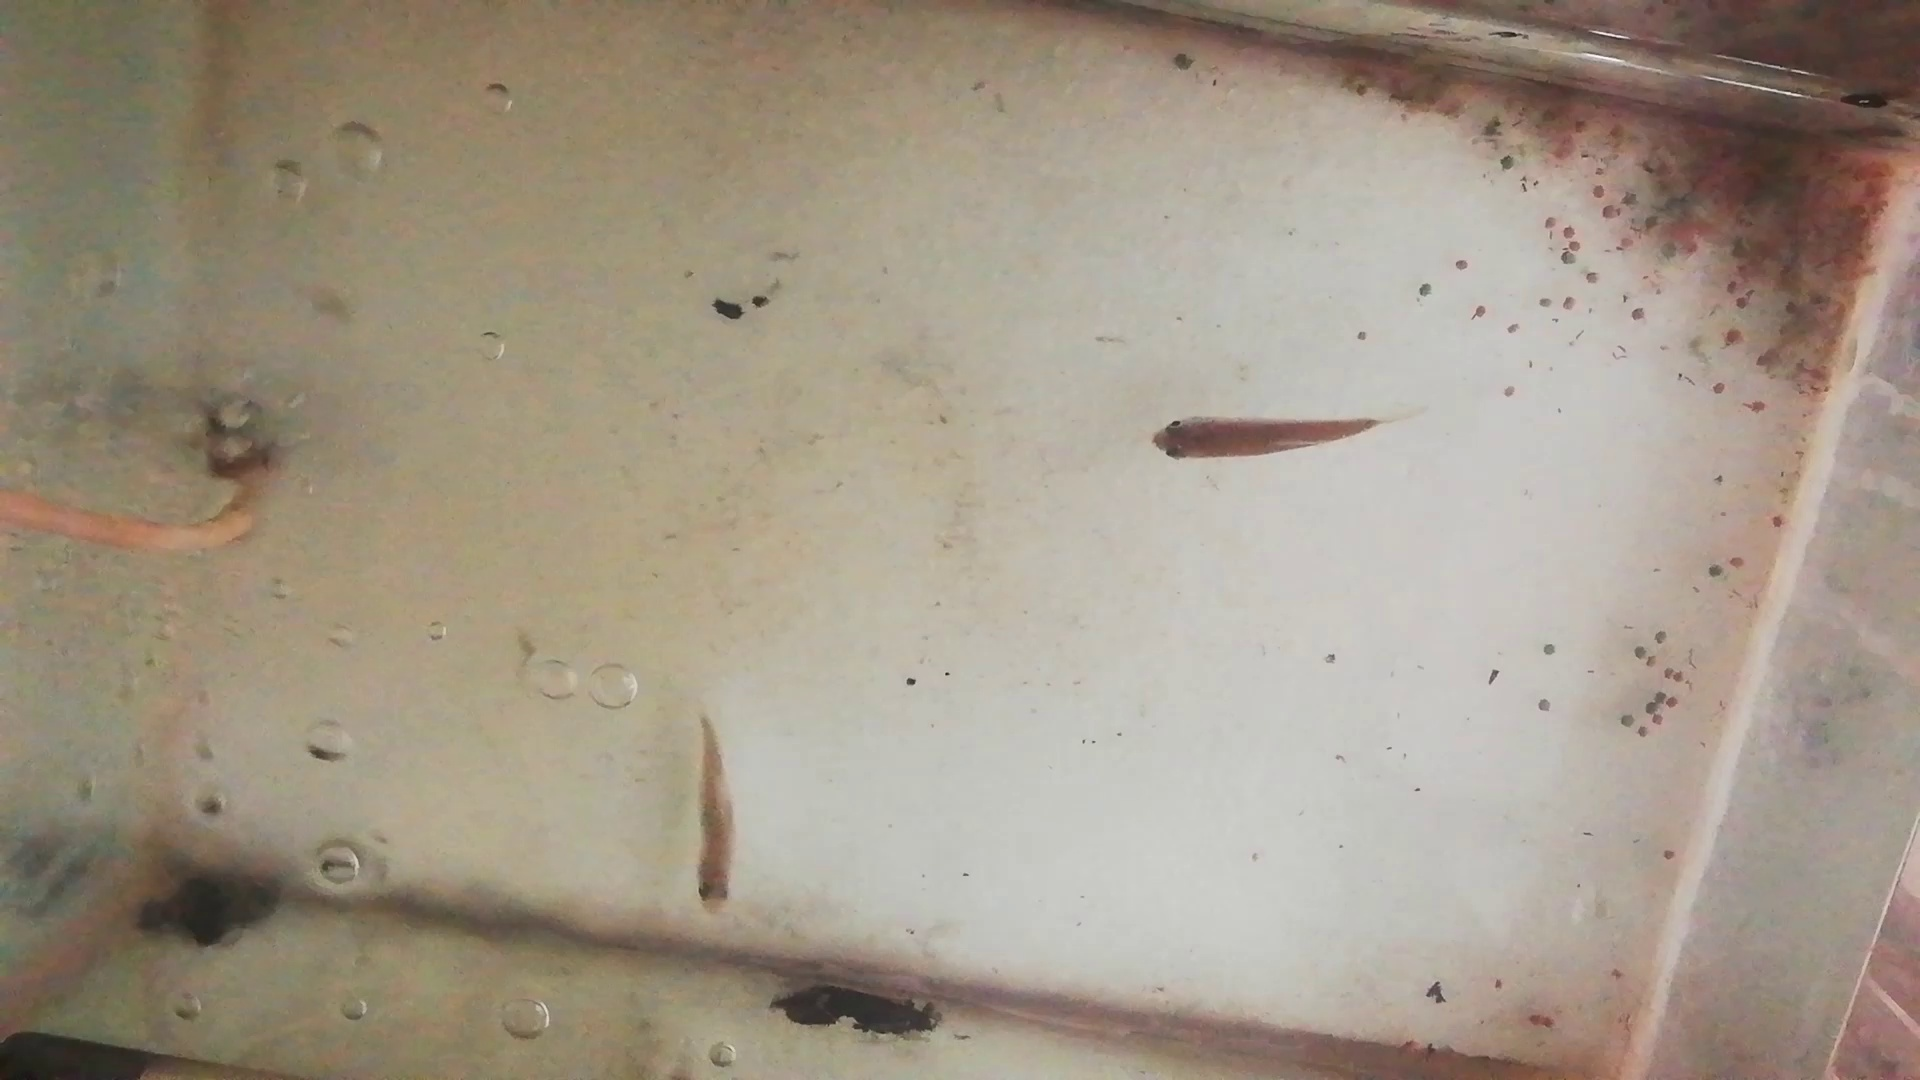fish: (1149, 411, 1378, 463), (696, 719, 738, 918)
